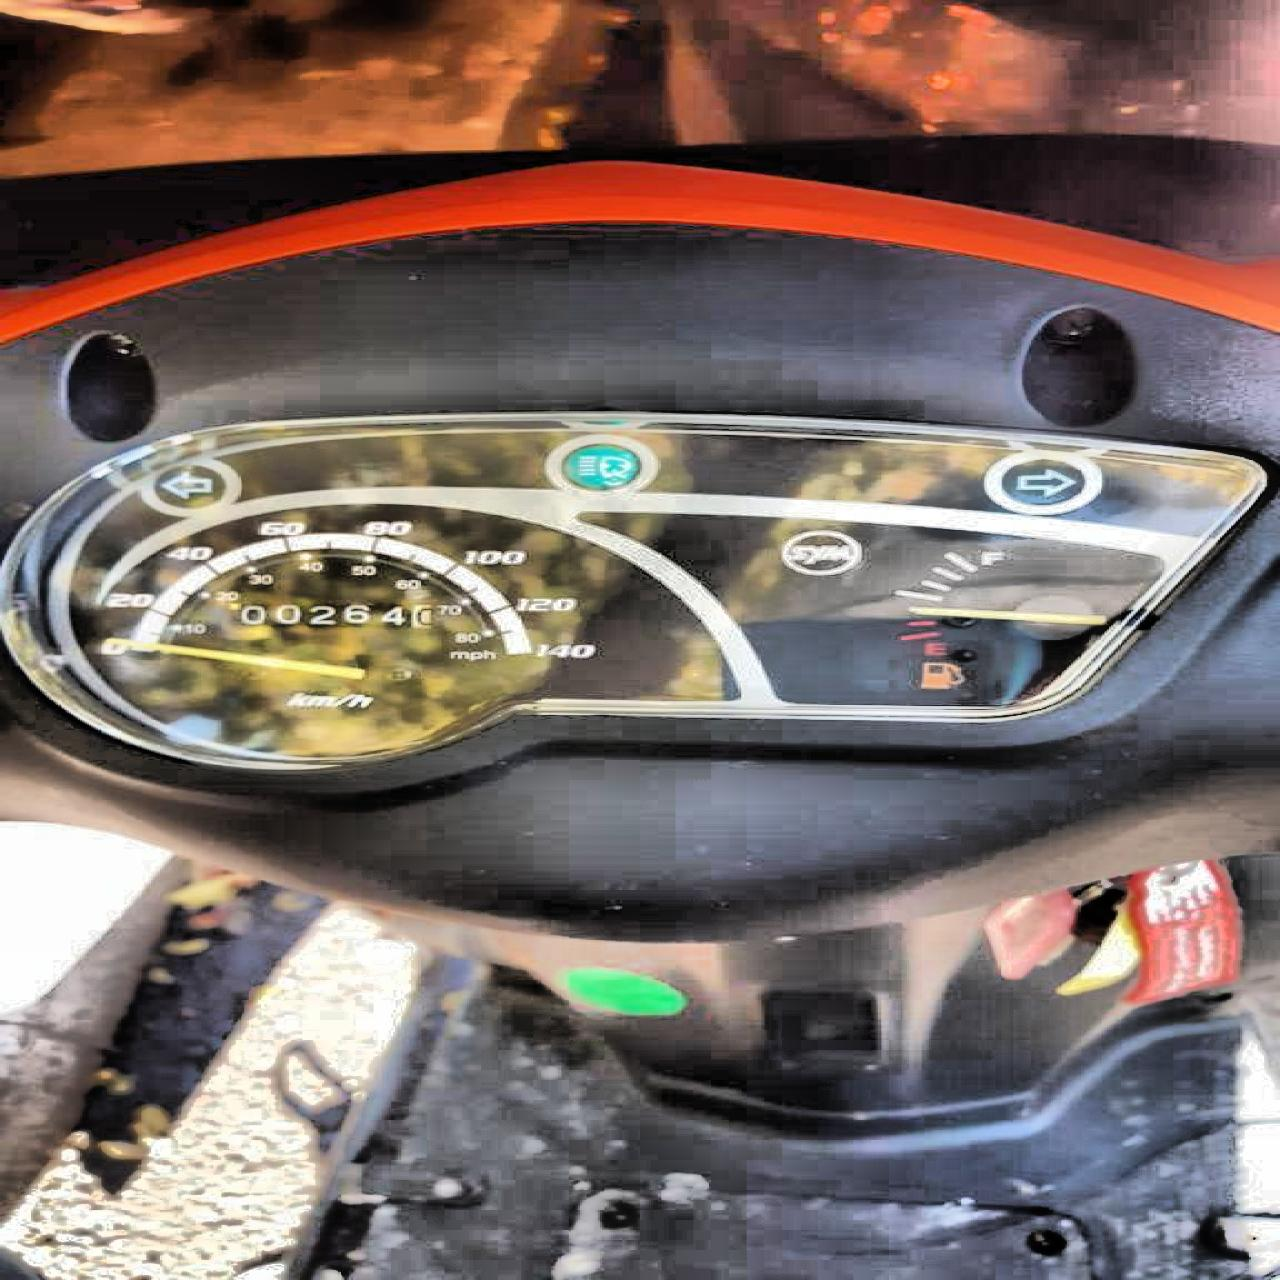0: (271, 602, 300, 624), (238, 604, 264, 624), (414, 607, 436, 625)
2: (306, 605, 335, 625)
4: (377, 605, 404, 624)
6: (340, 602, 369, 622)
odometer: (220, 600, 436, 631)
